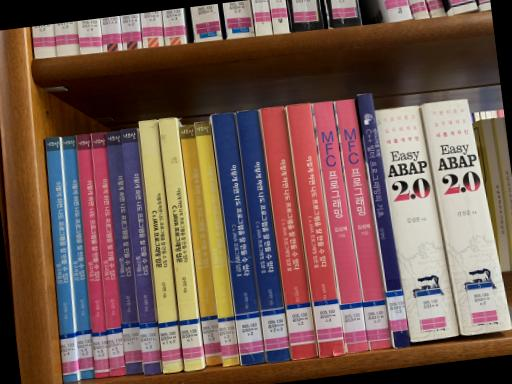book-spine: (421, 98, 512, 334), (375, 105, 459, 341), (287, 103, 346, 358), (260, 106, 318, 359), (311, 101, 369, 353), (334, 99, 392, 349), (236, 109, 291, 362), (212, 112, 266, 365), (358, 92, 410, 348), (159, 117, 204, 371), (194, 121, 240, 367), (139, 119, 183, 373), (180, 124, 223, 366), (121, 128, 162, 374), (107, 130, 144, 376), (91, 132, 126, 376), (45, 137, 78, 382), (77, 132, 110, 377), (62, 136, 95, 379)
